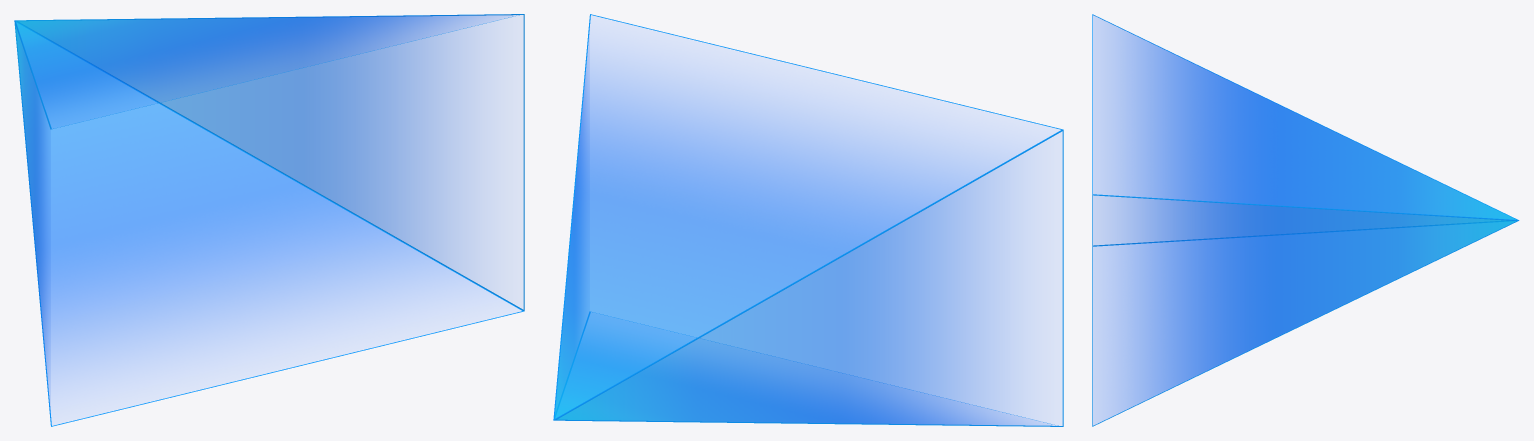
File: visible.glb
3 renders of one model, left to right at view 1: azimuth 30°, elevation 25°; view 2: azimuth 150°, elevation 25°; view 3: azimuth 270°, elevation 25°, orthographic. The views are drawn at different scales.
Visible parts, largest first — view 1: Box001; view 2: Box001; view 3: Box001.
Part boxes in pixels (x1=…): Box001: x1=14, y1=14, x2=524, y2=426; Box001: x1=553, y1=14, x2=1063, y2=426; Box001: x1=1092, y1=14, x2=1519, y2=426.
Size of the model in its own units: 1 by 0.6 by 1.
2 materials, 2 textured.
